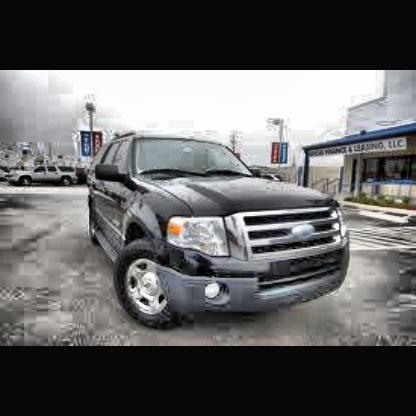Ford Expedition EL SUV 2009: (90, 133, 350, 331)
